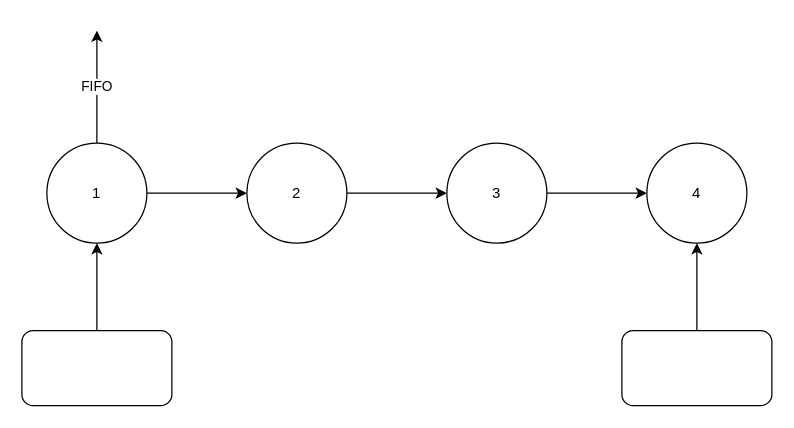
This 794x428 diagram has some shape labels left out. Each missing label, with the box of its shape:
first: (21, 329, 172, 406)
last: (621, 329, 772, 406)
